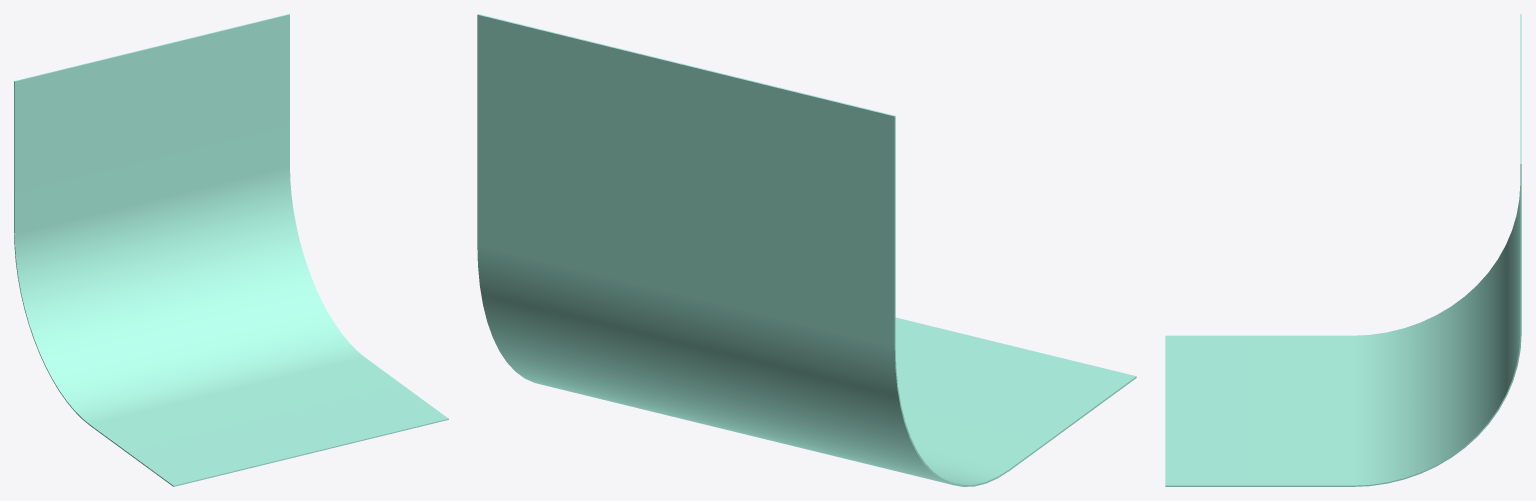
The picture shows the model from 3 angles, left to right: view 1: azimuth 30°, elevation 25°; view 2: azimuth 150°, elevation 25°; view 3: azimuth 270°, elevation 25°; orthographic projection. The views are drawn at different scales.
Visible parts, largest first — view 1: Plane; view 2: Plane; view 3: Plane.
Boxes of the visible parts, <box> form: Plane: <box>14,14,448,486</box>; Plane: <box>477,14,1136,486</box>; Plane: <box>1165,14,1521,486</box>.
Size of the model in its own units: 6.61 by 6.64 by 6.64.
